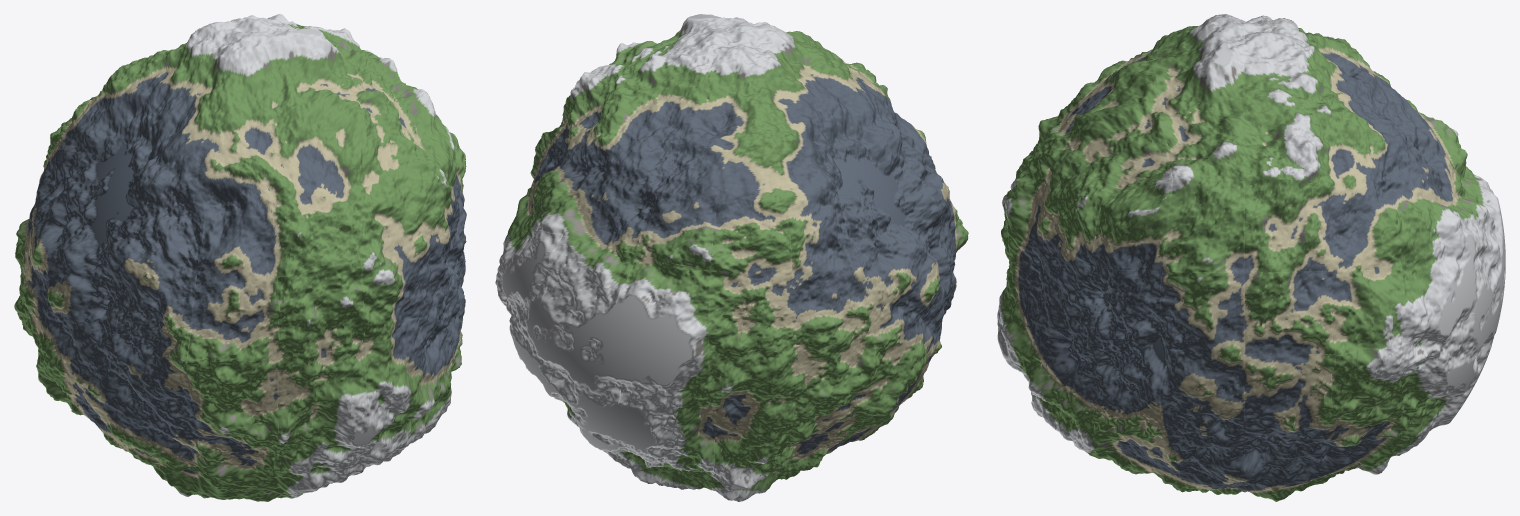
File: planet.glb
3 renders of one model, left to right at view 1: azimuth 30°, elevation 25°; view 2: azimuth 150°, elevation 25°; view 3: azimuth 270°, elevation 25°, orthographic. The views are drawn at different scales.
Parts seen in each view (by area): view 1: tile_3_2_1_2, tile_3_2_1_1, tile_3_2_0_2, tile_3_2_1_3, tile_4_2_1_1, tile_4_2_1_0, tile_3_2_0_3, tile_4_2_0_0, tile_3_2_0_1, tile_1_2_3_3, tile_3_2_2_3, tile_1_2_3_2 (+37 smaller); view 2: tile_2_2_2_2, tile_2_2_1_2, tile_2_2_2_1, tile_2_2_3_2, tile_4_2_1_2, tile_2_2_3_3, tile_1_2_0_2, tile_2_2_2_3, tile_4_2_0_3, tile_2_2_1_1, tile_4_2_2_3, tile_2_2_1_3 (+35 smaller); view 3: tile_0_2_2_2, tile_0_2_1_3, tile_0_2_2_3, tile_0_2_1_2, tile_0_2_3_2, tile_4_2_3_2, tile_0_2_2_1, tile_0_2_3_3, tile_4_2_3_1, tile_0_2_0_3, tile_4_2_2_1, tile_0_2_1_1 (+39 smaller).
Boxes of the visible parts, box(x1,y1,x2,y2) form: tile_3_2_1_2: box(277, 259, 368, 357); tile_3_2_1_1: box(278, 344, 370, 439); tile_3_2_0_2: box(187, 277, 279, 361); tile_3_2_1_3: box(271, 177, 360, 276); tile_4_2_1_1: box(176, 32, 293, 129); tile_4_2_1_0: box(220, 99, 327, 192); tile_3_2_0_3: box(194, 192, 277, 291); tile_4_2_0_0: box(151, 130, 270, 221); tile_3_2_0_1: box(187, 356, 279, 433); tile_1_2_3_3: box(123, 180, 205, 291); tile_3_2_2_3: box(328, 165, 419, 259); tile_1_2_3_2: box(116, 259, 194, 359); tile_2_2_2_2: box(614, 253, 711, 358); tile_2_2_1_2: box(541, 235, 635, 346); tile_2_2_2_1: box(614, 347, 712, 431); tile_2_2_3_2: box(708, 271, 796, 352); tile_4_2_1_2: box(696, 32, 810, 123); tile_2_2_3_3: box(710, 189, 793, 285); tile_1_2_0_2: box(793, 253, 872, 345); tile_2_2_2_3: box(636, 178, 718, 270); tile_4_2_0_3: box(718, 124, 832, 213); tile_2_2_1_1: box(541, 320, 623, 425); tile_4_2_2_3: box(613, 88, 695, 177); tile_2_2_1_3: box(563, 163, 666, 253); tile_0_2_2_2: box(1244, 271, 1335, 358); tile_0_2_1_3: box(1163, 177, 1244, 272); tile_0_2_2_3: box(1244, 178, 1326, 272); tile_0_2_1_2: box(1160, 271, 1244, 360); tile_0_2_3_2: box(1326, 269, 1427, 354); tile_4_2_3_2: box(1244, 94, 1331, 182); tile_0_2_2_1: box(1244, 353, 1336, 430); tile_0_2_3_3: box(1312, 183, 1402, 270); tile_4_2_3_1: box(1160, 97, 1244, 180); tile_0_2_0_3: box(1092, 178, 1173, 270); tile_4_2_2_1: box(1153, 25, 1244, 114); tile_0_2_1_1: box(1160, 347, 1244, 428).
Bounding box in the file's own units: 616 × 658 × 662.
